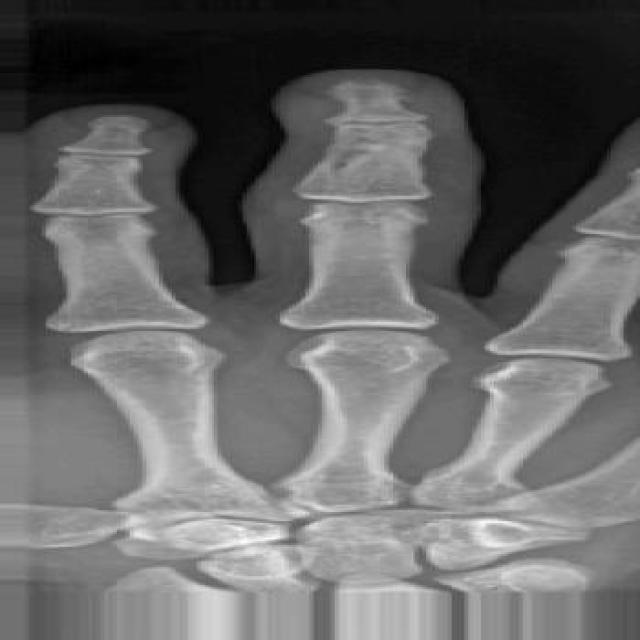Fracture: (296, 124, 422, 180)
